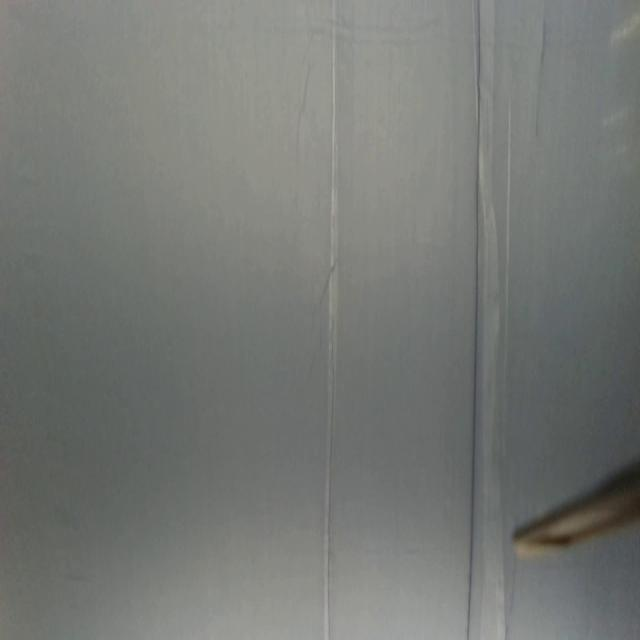crease: (464, 0, 483, 640), (321, 0, 339, 640), (500, 98, 516, 459), (533, 17, 547, 145)
